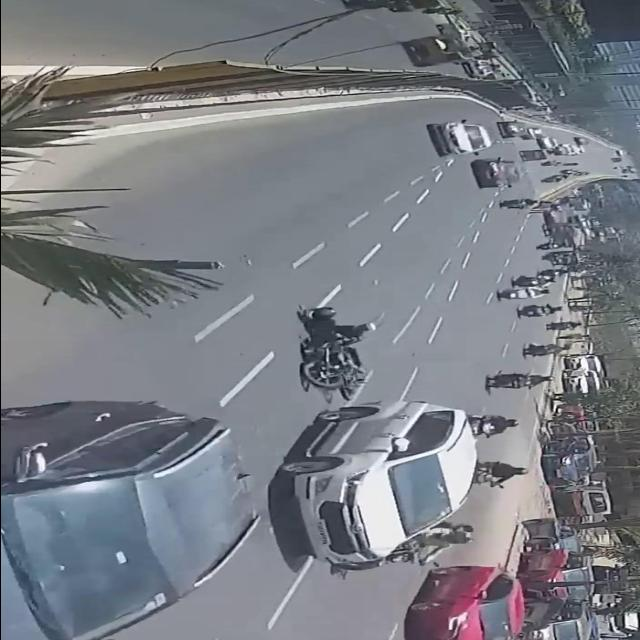accident: (277, 306, 375, 402)
non_accident: (503, 511, 596, 640), (543, 400, 605, 484), (533, 204, 603, 268), (553, 352, 618, 400), (511, 126, 593, 163)
